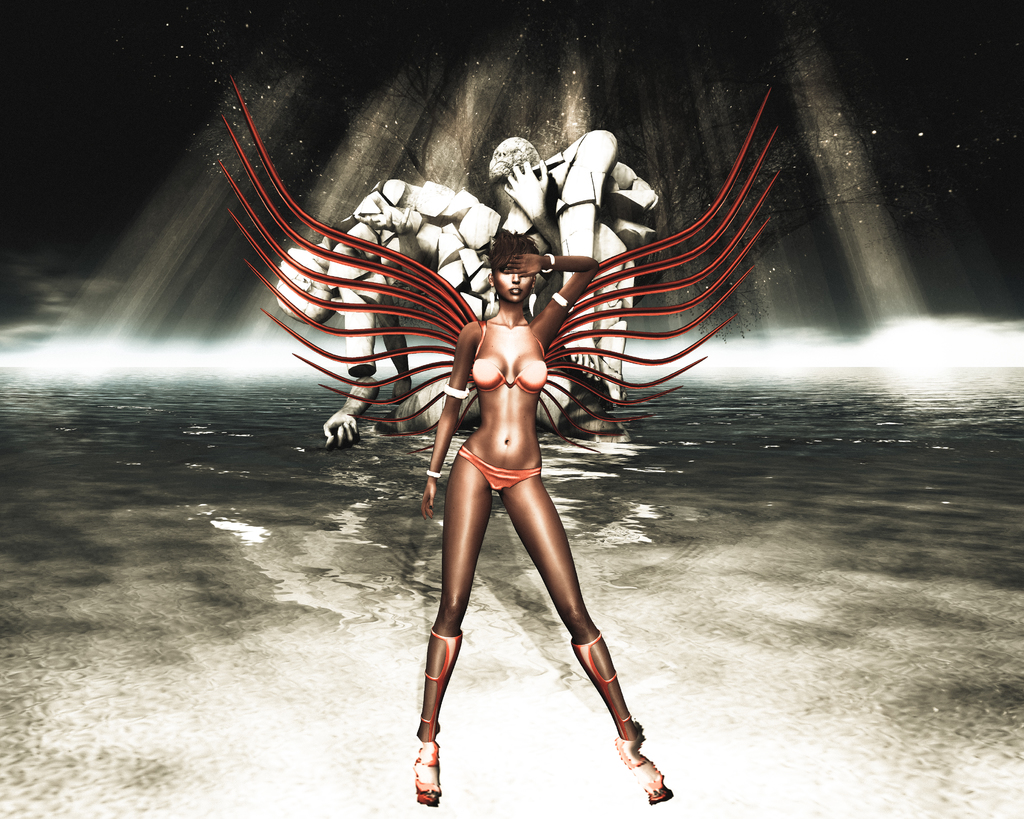Person: (217, 73, 780, 807)
